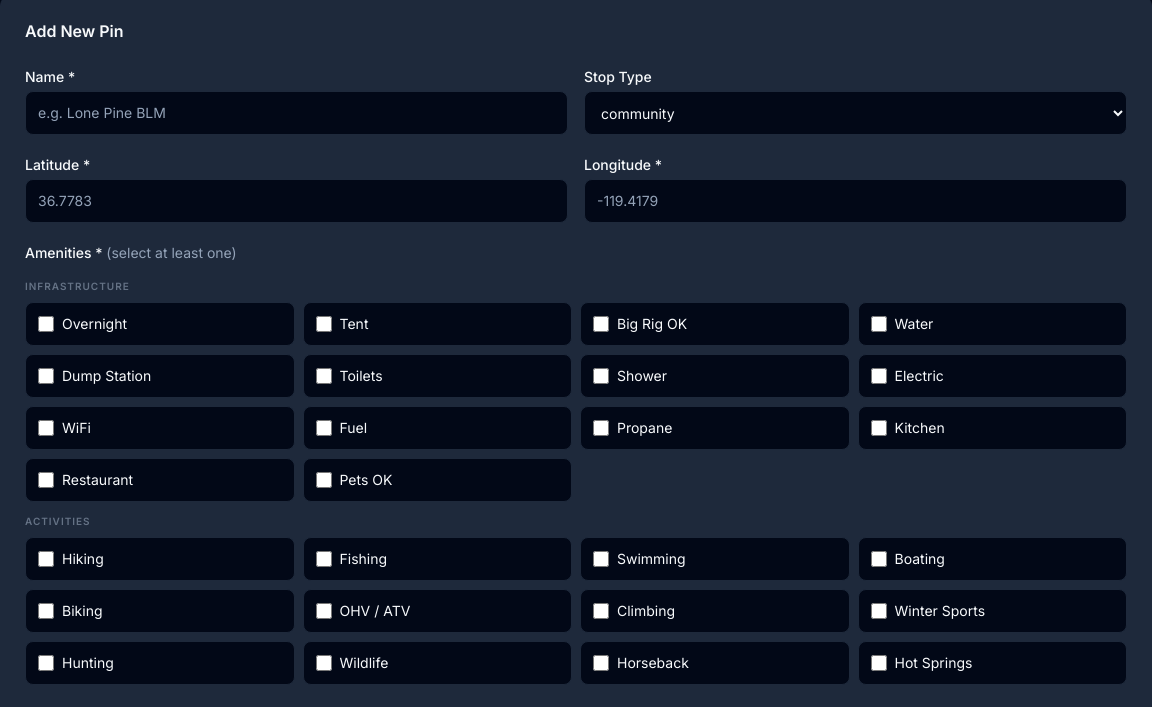
Test: CreatePinForm › shows coordinate bounds error for lat=0 lng=0 (4.5)
Type "Test Spot" into the field labelled "Name *". click: [296, 113]
box: top-left (25, 91), bottom-right (568, 135)
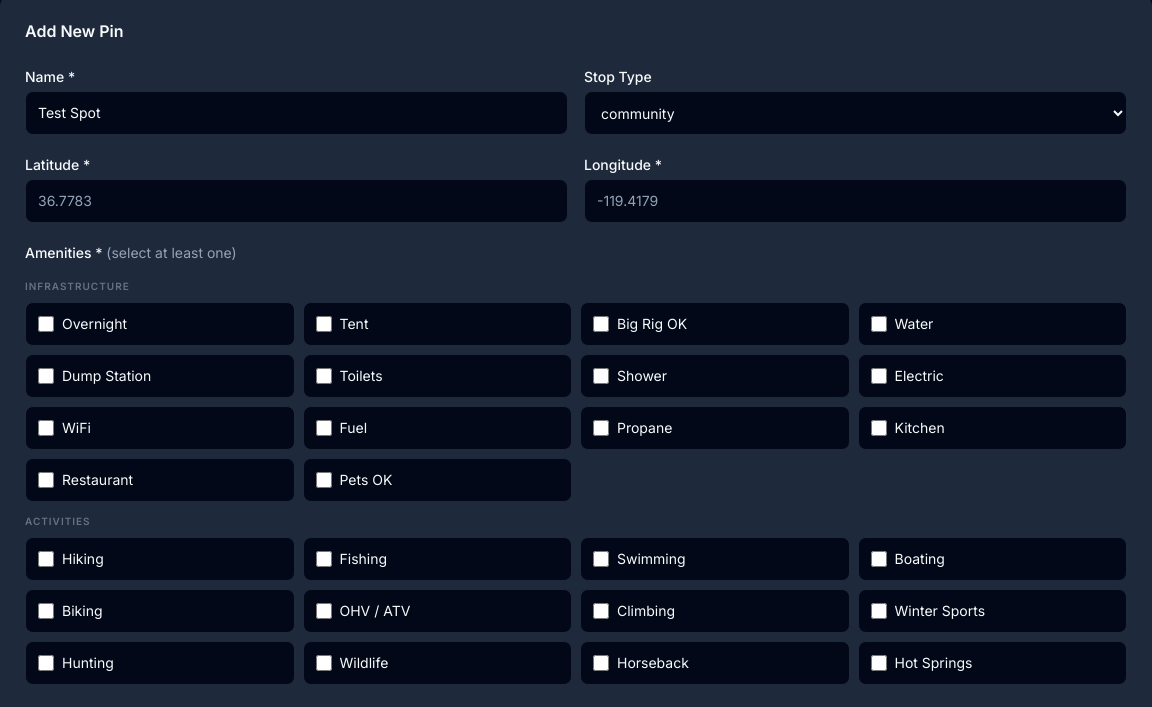
Type "0" into the number field labelled "Latitude *". click: [296, 201]
box: top-left (25, 179), bottom-right (568, 223)
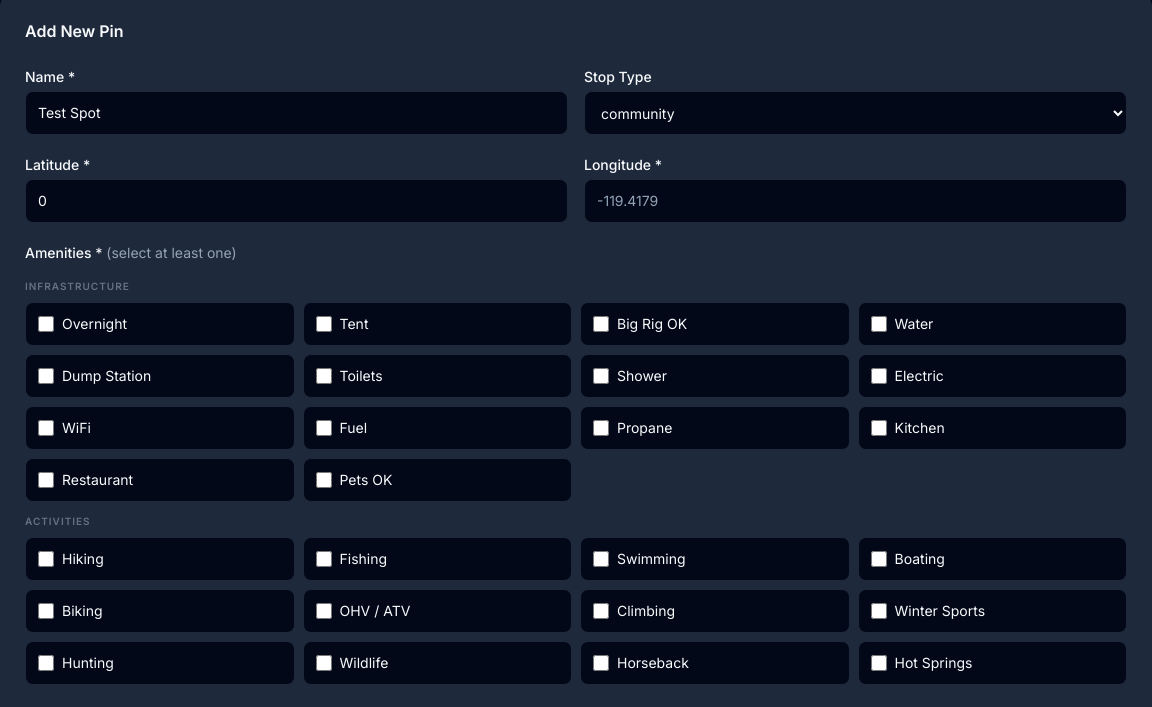
Type "0" into the number field labelled "Longitude *". click: [856, 201]
box: top-left (584, 179), bottom-right (1127, 223)
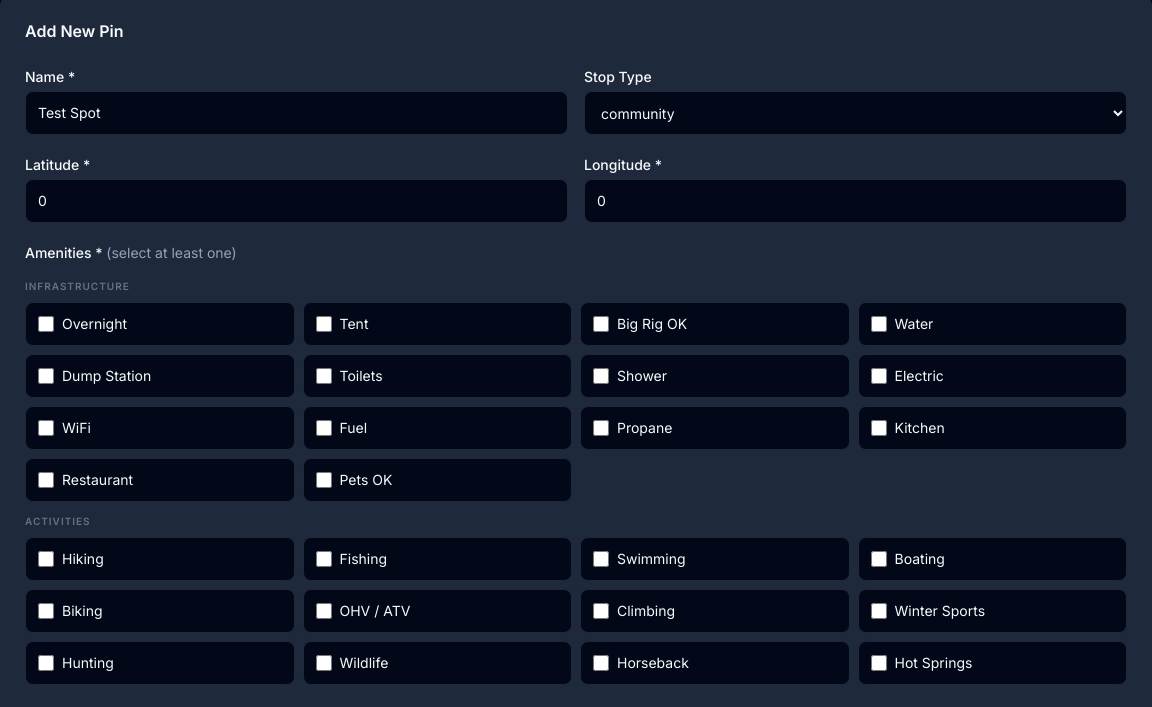
Click the checkbox labelled "Water". click: [878, 324]
box: top-left (870, 316), bottom-right (886, 332)
(page scrolled)
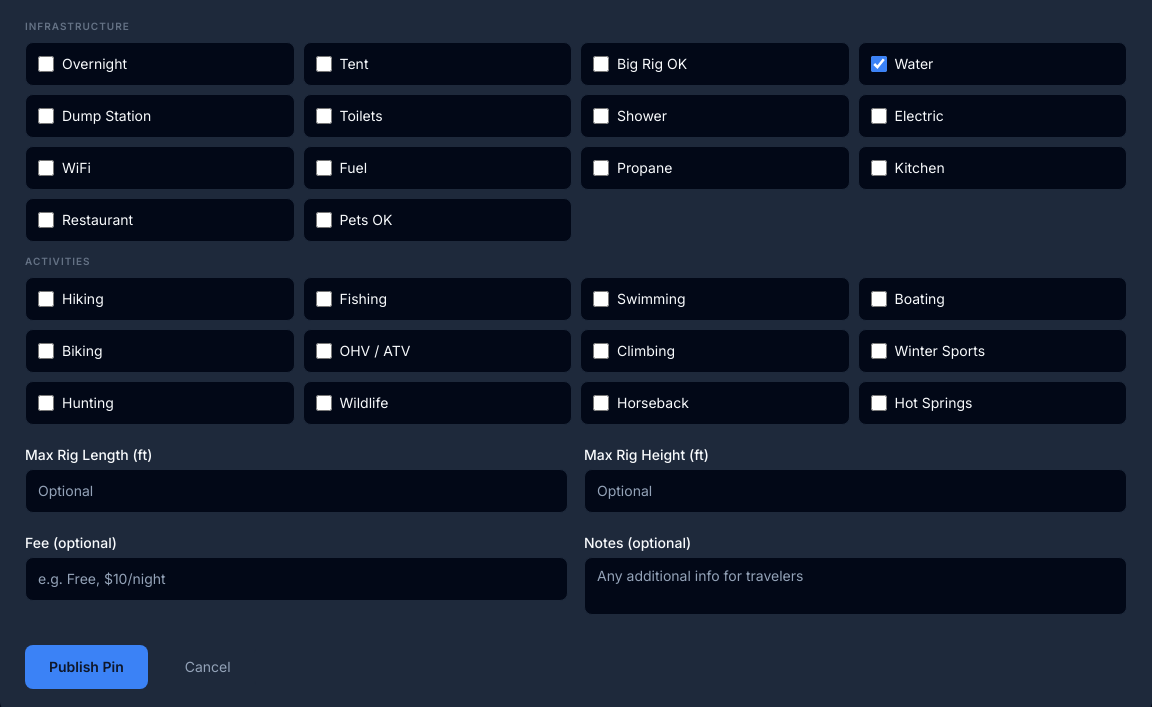
Click the button "Publish Pin". click: [86, 667]
box: top-left (25, 645), bottom-right (148, 689)
(page scrolled)
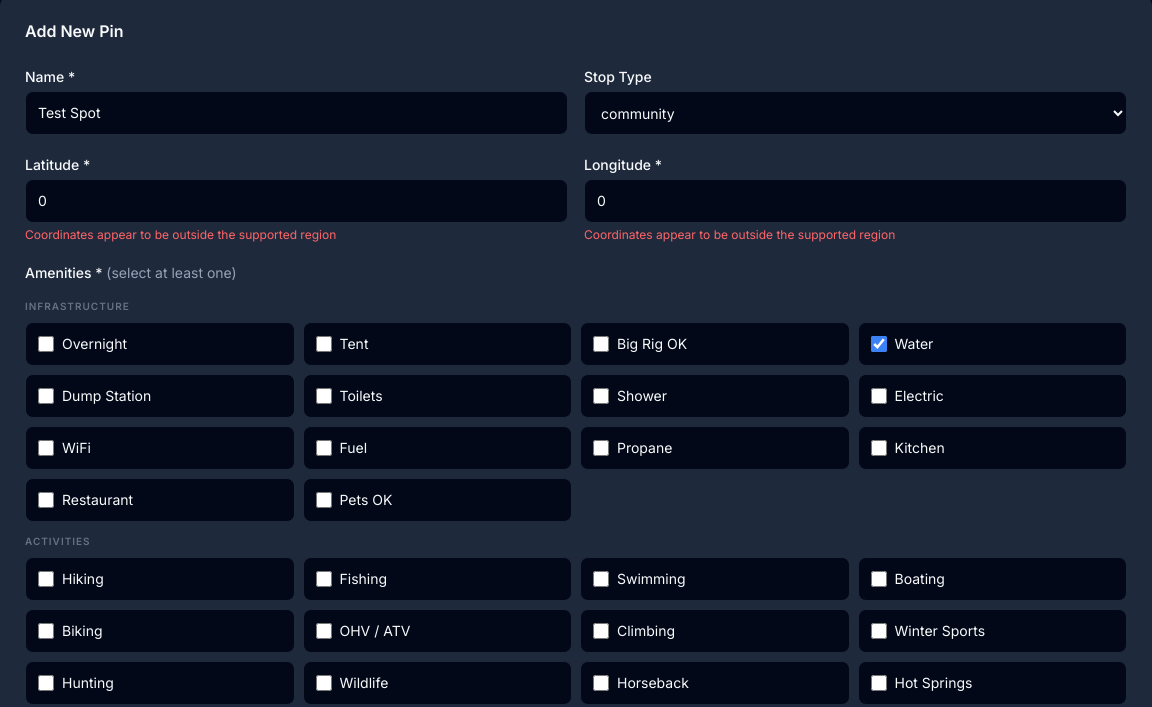
Expected: the text "Coordinates appear to be outside the supported region" below "Latitude *" is shown, top-left (25, 227), bottom-right (336, 242)
